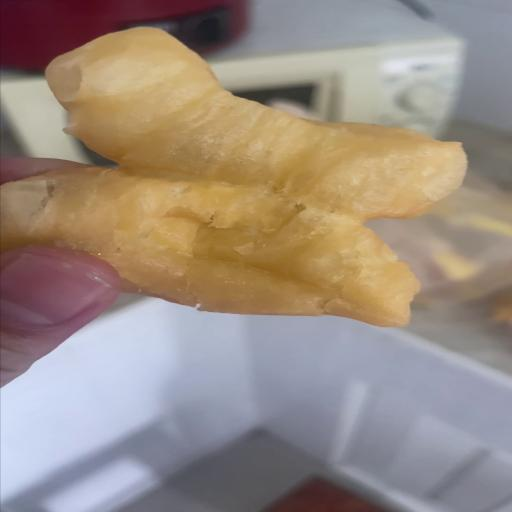street_golden_defect: (0, 28, 465, 327)
